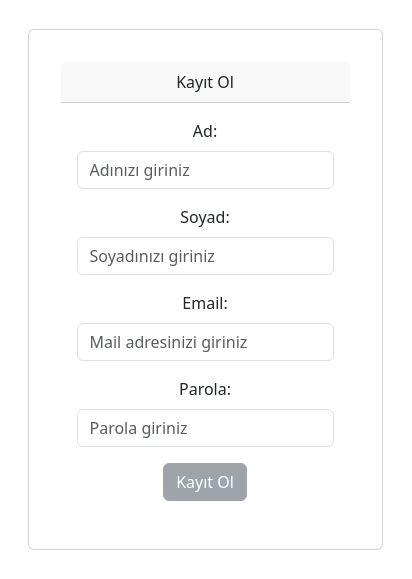
Test: Register Page › Error Messages › First name input throws error for 2 chars
Type "bu" into the field with test id "firstName-input".
click(206, 170); type("bu")  # box x1=77 y1=151 x2=334 y2=189
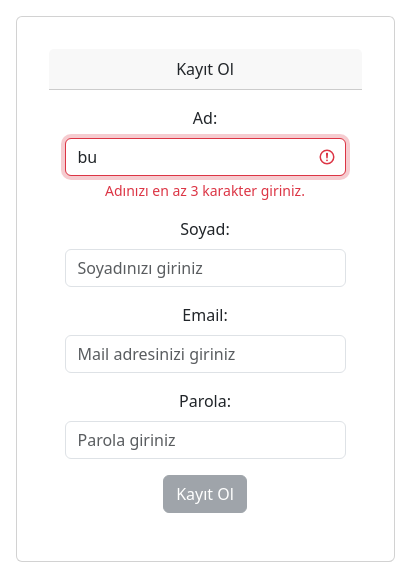
Check: the text "Adınızı en az 3 karakter giriniz." is shown, box x1=105 y1=181 x2=305 y2=200
